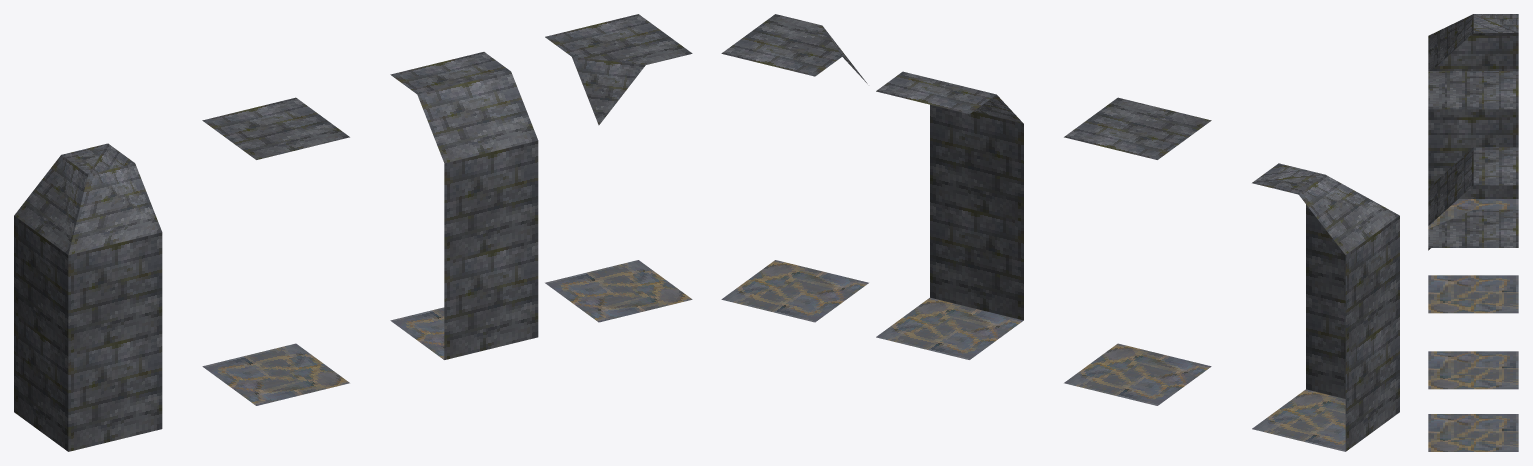
File: fullTileSet.glb
3 views of the same model, side by side, from view 1: azimuth 30°, elevation 25°; view 2: azimuth 150°, elevation 25°; view 3: azimuth 270°, elevation 25° (orthographic). The views are drawn at different scales.
Visible parts, largest first — view 1: corner-in-col, wall-col, corner-out-col, floor-col; view 2: wall-col, corner-in-col, floor-col, corner-out-col; view 3: corner-in-col, floor-col, wall-col, corner-out-col.
Part boxes in pixels (x1,y1,x2,y2): corner-in-col: (14,143,162,451); wall-col: (390,52,538,359); corner-out-col: (545,14,692,322); floor-col: (202,97,349,405); wall-col: (876,71,1023,359); corner-in-col: (1252,163,1399,451); floor-col: (1064,97,1211,405); corner-out-col: (721,14,868,322); corner-in-col: (1428,14,1518,228); floor-col: (1428,71,1518,313); wall-col: (1428,147,1518,389); corner-out-col: (1428,209,1518,451).
Bounding box in the file's own units: 6.64 × 2.5 × 1.
1 material, 1 textured.
